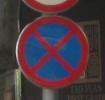No Parking: (16, 15, 90, 89)
